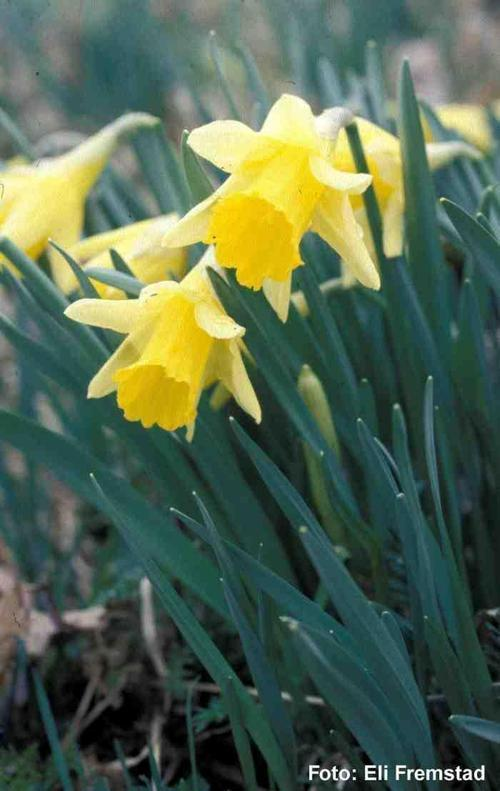flower1: (164, 93, 383, 324), (63, 271, 263, 441)
